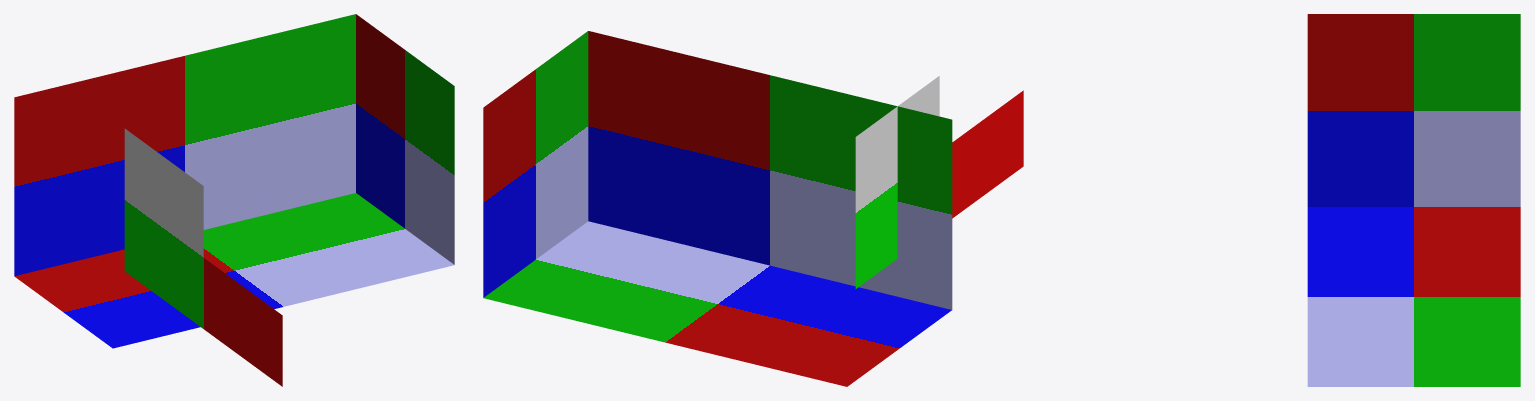
The model's file is rigid-kart.gltf.
3 renders of one model, left to right at view 1: azimuth 30°, elevation 25°; view 2: azimuth 150°, elevation 25°; view 3: azimuth 270°, elevation 25°, orthographic. The views are drawn at different scales.
Visible parts, largest first — view 1: body, wheel; view 2: body, wheel; view 3: body.
Part boxes in pixels (left/top/right/bottom): body: left=14, top=14, right=454, bottom=348; wheel: left=124, top=128, right=282, bottom=386; body: left=483, top=31, right=952, bottom=386; wheel: left=855, top=76, right=1023, bottom=288; body: left=1307, top=14, right=1520, bottom=386.
Size of the model in its own units: 2 by 1 by 2.2.
Materials: 2 (2 with a texture image).
